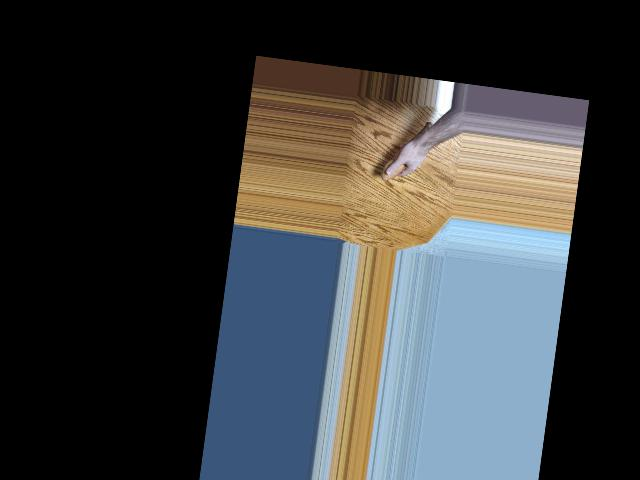sweet_potato: (379, 115, 431, 187)
